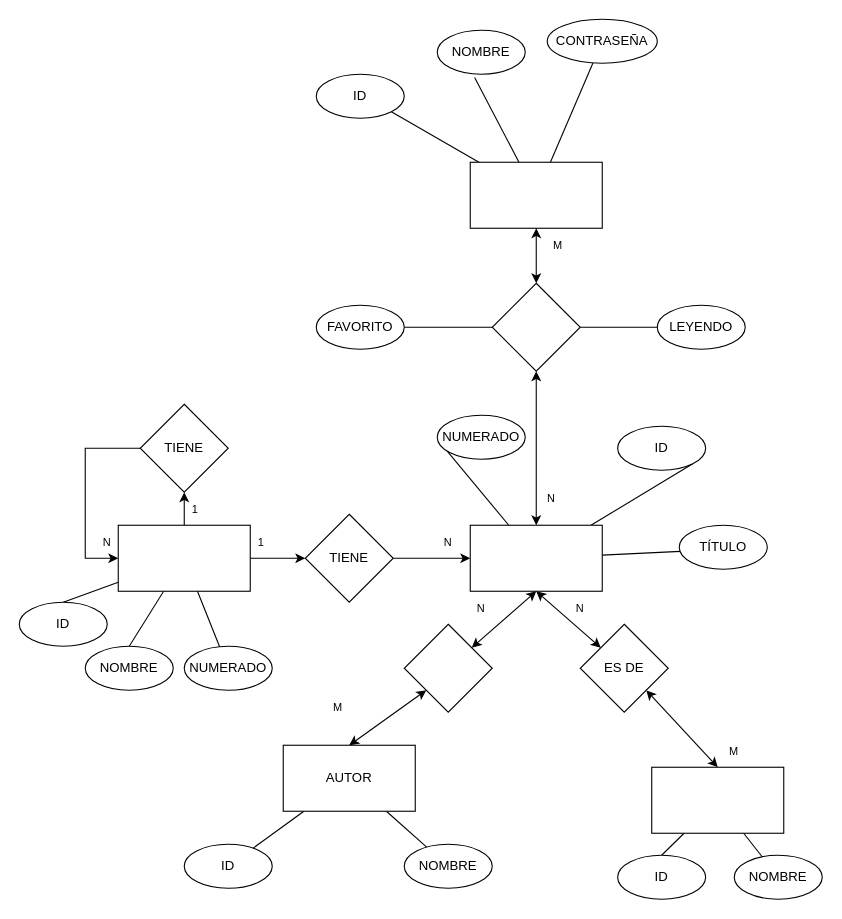
The diagram is 842 pixels wide and 919 high, and some of its shapes have lost their labels. The centre of each missing label's shape, as x and y in pixels:
"Biblioteca personal" goes at (535,326).
"ESCRIBE" goes at (447,667).
"GÉNERO" goes at (717,799).
"LIBRO" goes at (535,557).
"SAGA" goes at (183,557).
"USUARIO" goes at (535,194).
